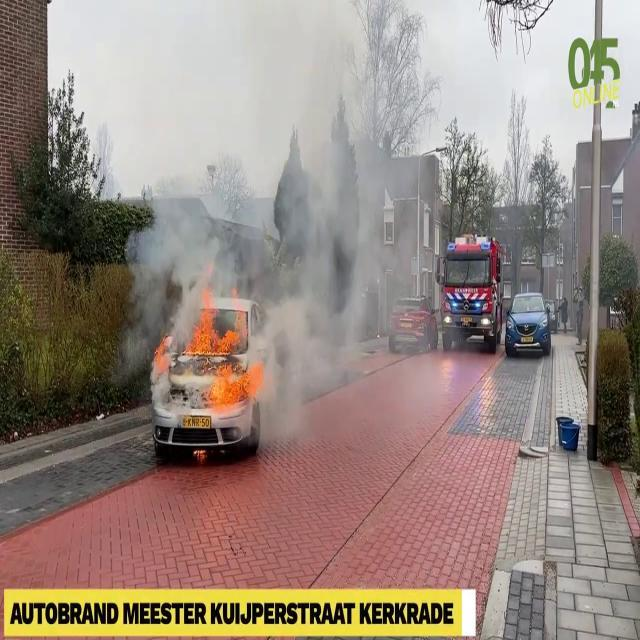Fire: (182, 283, 264, 419)
Smoke: (120, 29, 432, 420)
